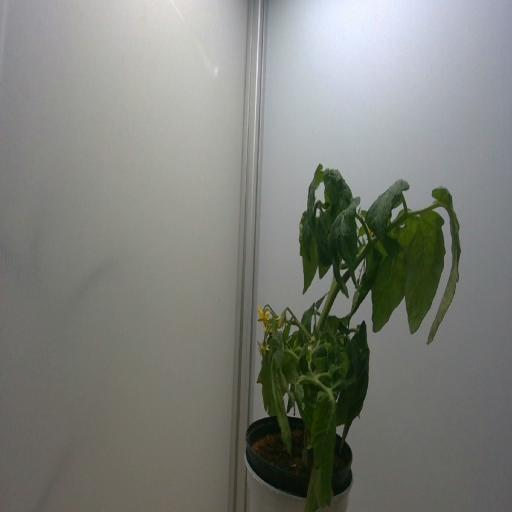Tomato-Leaves-Cupboard-: (422, 182, 461, 352), (396, 204, 445, 338), (256, 330, 300, 465), (366, 221, 414, 331), (335, 316, 372, 449), (302, 386, 341, 511), (365, 180, 409, 262), (328, 202, 360, 300), (346, 241, 379, 328), (297, 206, 319, 292), (323, 164, 351, 222), (318, 207, 339, 276), (306, 159, 325, 227), (299, 208, 316, 260), (307, 340, 330, 376), (302, 300, 312, 349), (311, 290, 329, 316), (324, 312, 344, 333)
